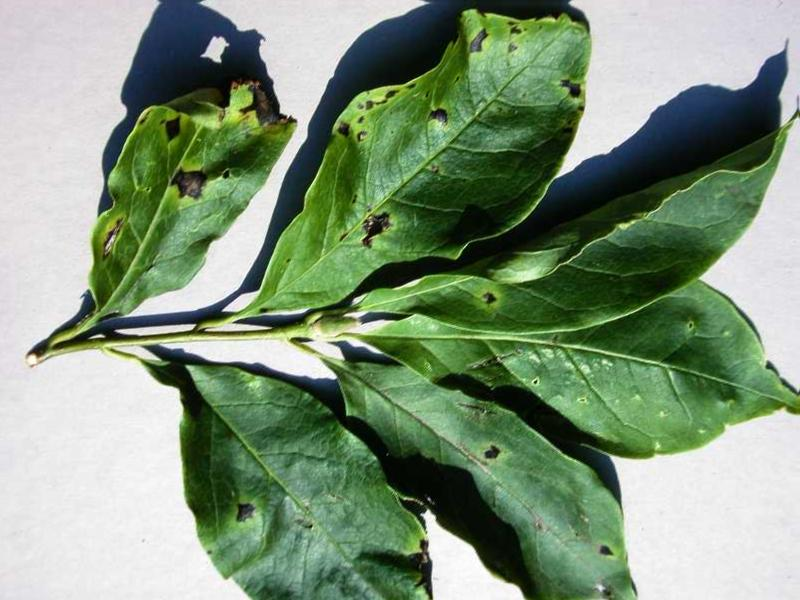Tomato leaf bacterial spot: (250, 7, 594, 323), (363, 116, 796, 327), (293, 343, 636, 596), (72, 53, 289, 318)
